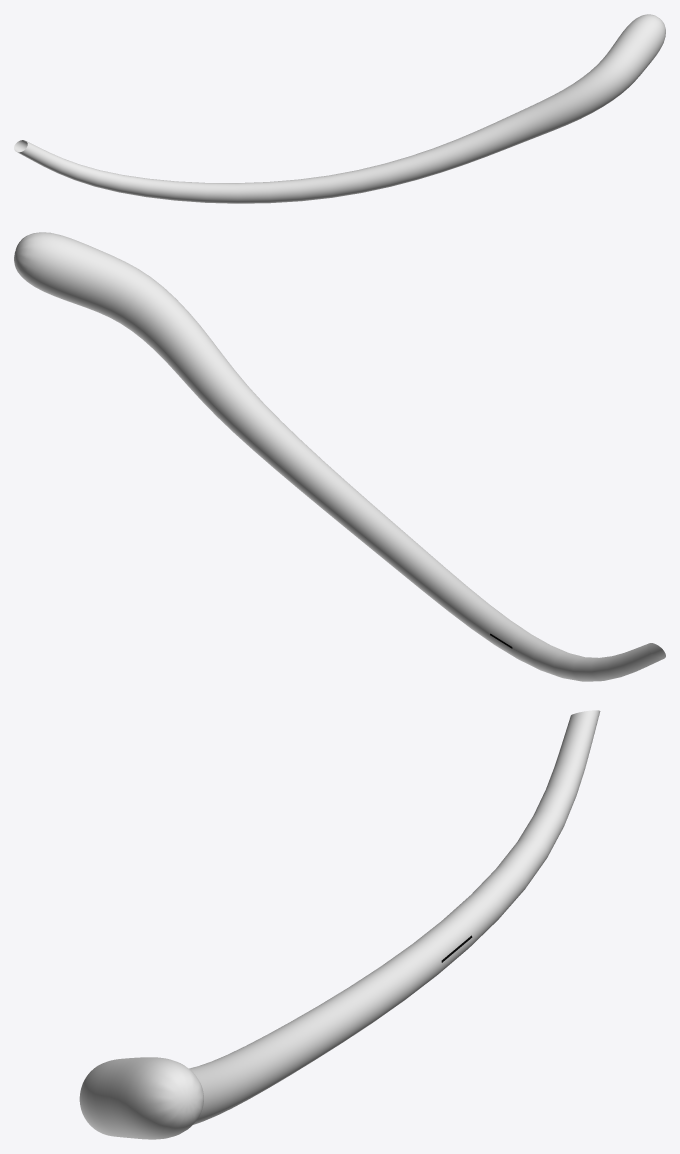
The picture shows the model from 3 angles, top to bottom: view 1: azimuth 30°, elevation 25°; view 2: azimuth 150°, elevation 25°; view 3: azimuth 270°, elevation 25°; orthographic projection. The views are drawn at different scales.
Parts seen in each view (by area): view 1: BezierCurve.014; view 2: BezierCurve.014; view 3: BezierCurve.014.
Part boxes in pixels (box(x1,y1,x2,y2)): BezierCurve.014: box(14, 14, 665, 203); BezierCurve.014: box(14, 232, 665, 681); BezierCurve.014: box(79, 710, 600, 1139).
Size of the model in its own units: 3.35 by 0.8301 by 1.39.
Materials: 1 (1 with a texture image).
